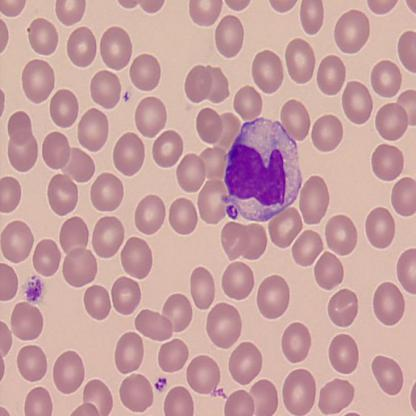Atypical lymphocyte: (224, 117, 303, 222)
